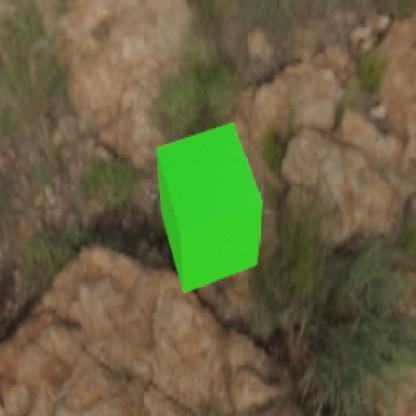cube: (155, 121, 262, 293)
